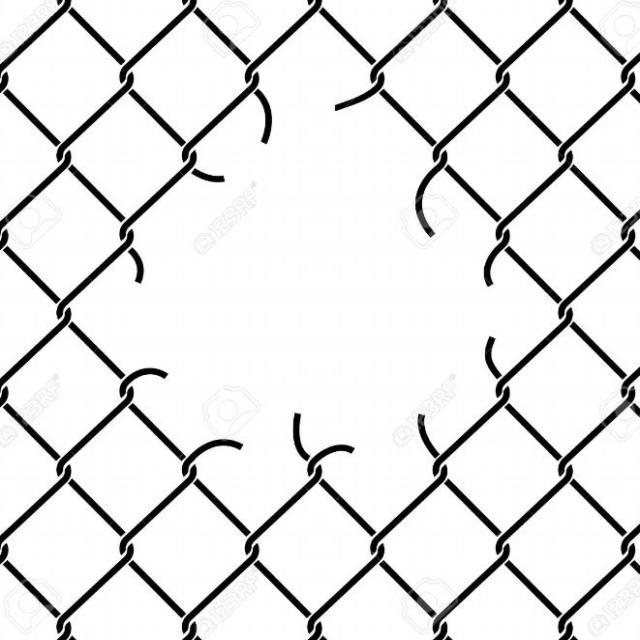fence line: (99, 67, 532, 519)
